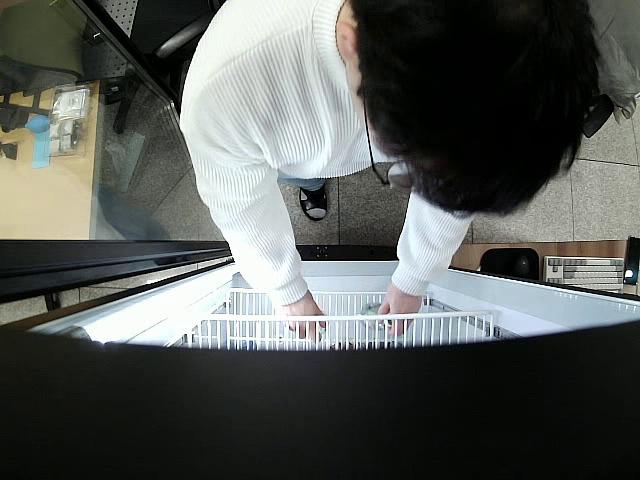00_hand: (280, 297, 328, 344), (379, 284, 418, 334)
